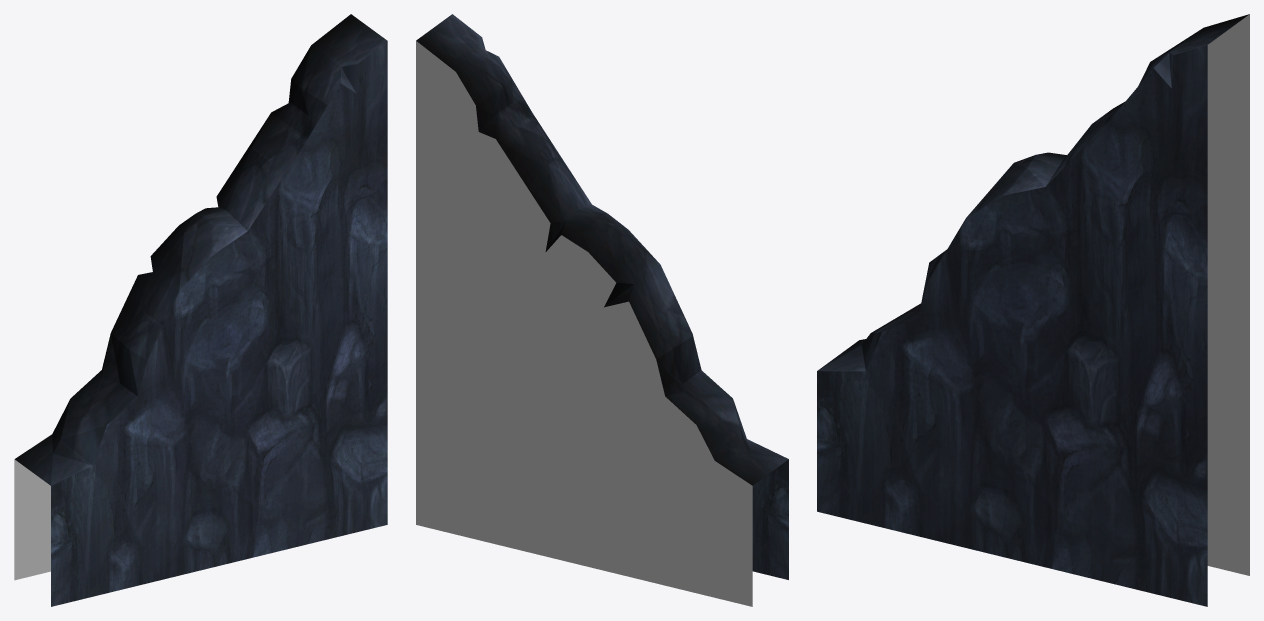
Rendered from mine_broken_tranwall_02.fbx.
3 renders of one model, left to right at view 1: azimuth 30°, elevation 25°; view 2: azimuth 150°, elevation 25°; view 3: azimuth 330°, elevation 25°, orthographic. The views are drawn at different scales.
Visible parts, largest first — view 1: obj2.001; view 2: obj2.001; view 3: obj2.001.
Boxes of the visible parts, left/top/right/bottom form: obj2.001: left=14, top=14, right=387, bottom=606; obj2.001: left=416, top=14, right=788, bottom=606; obj2.001: left=817, top=14, right=1249, bottom=606.
Bounding box in the file's own units: 4 × 5.5 × 0.75.
